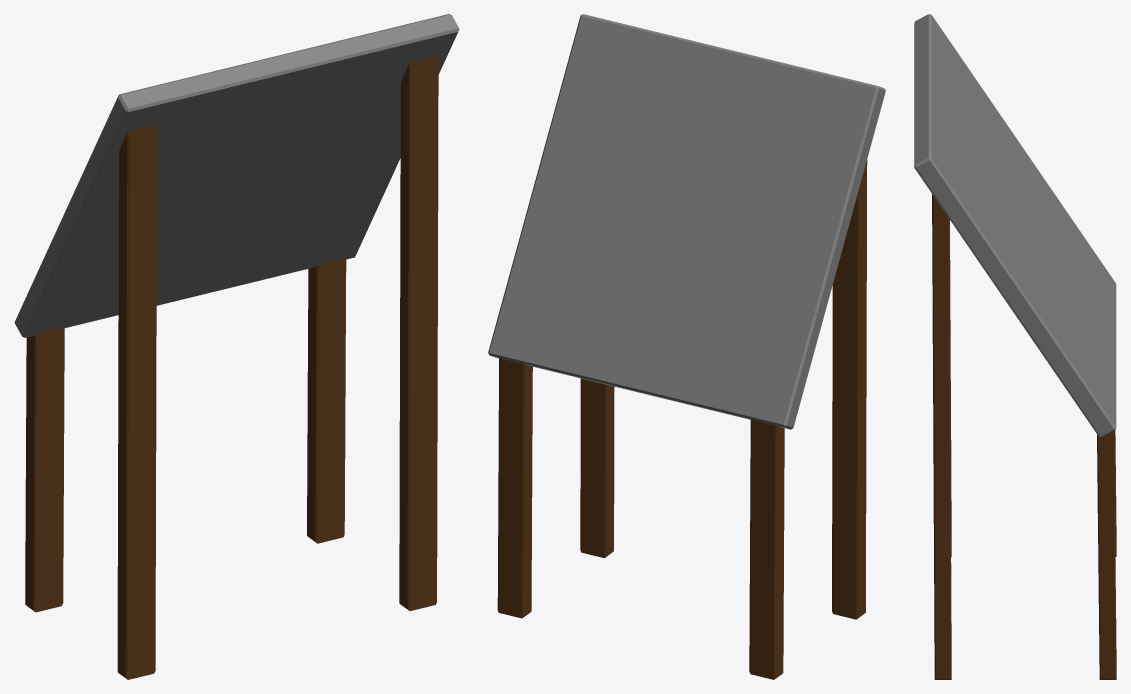
File: painting-canvas.glb
3 views of the same model, side by side, from view 1: azimuth 30°, elevation 25°; view 2: azimuth 150°, elevation 25°; view 3: azimuth 270°, elevation 25° (orthographic). The views are drawn at different scales.
Parts seen in each view (by area): view 1: PaintingCanvas1; view 2: PaintingCanvas1; view 3: PaintingCanvas1.
Part boxes in pixels (x1,y1,x2,y2): PaintingCanvas1: [14, 14, 459, 679]; PaintingCanvas1: [488, 14, 885, 679]; PaintingCanvas1: [914, 14, 1116, 679].
Size of the model in its own units: 0.9738 by 1.64 by 0.5724.
